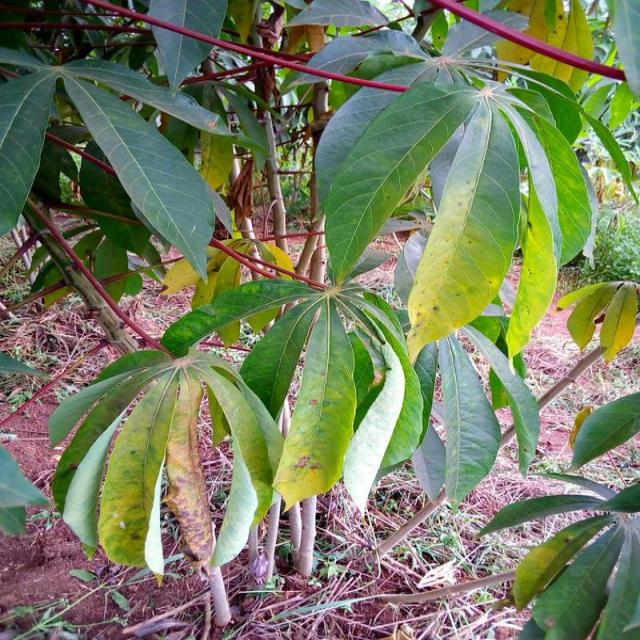cassava leaf: (49, 344, 285, 582), (58, 68, 216, 283), (322, 79, 481, 287), (404, 91, 522, 366)
